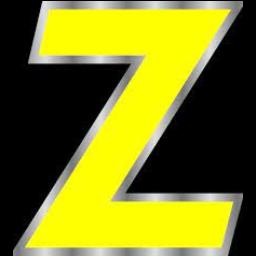z: (14, 0, 242, 256)
